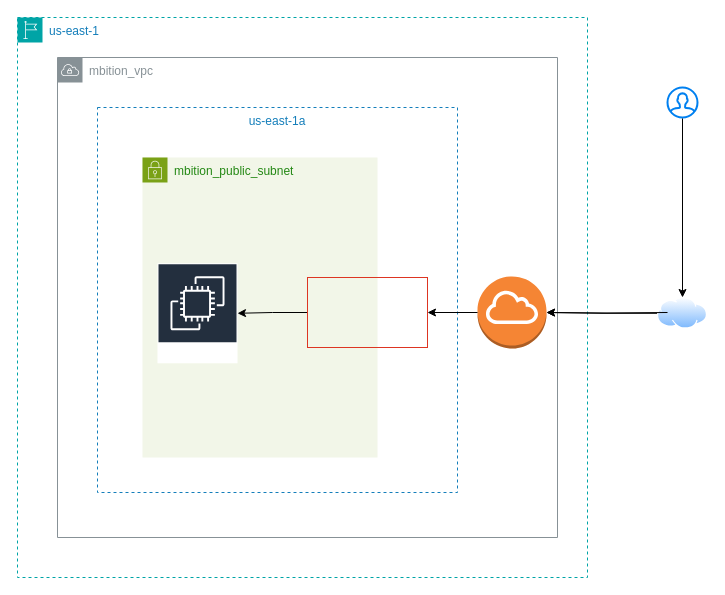
This 725x595 diagram has some shape labels left out. The centre of each missing label's shape, as x and y in pixels:
Amazon EC2: (197,312)
mbition_ssh_http_sg: (367,312)
